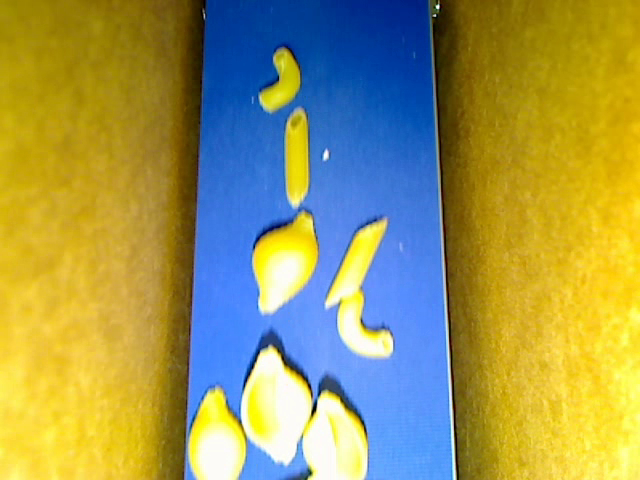elbow: (338, 291, 393, 357), (257, 46, 300, 114)
penne: (325, 217, 388, 309), (284, 107, 310, 207)
shell: (241, 344, 312, 467), (251, 210, 319, 316), (302, 388, 367, 479), (187, 384, 246, 479)
